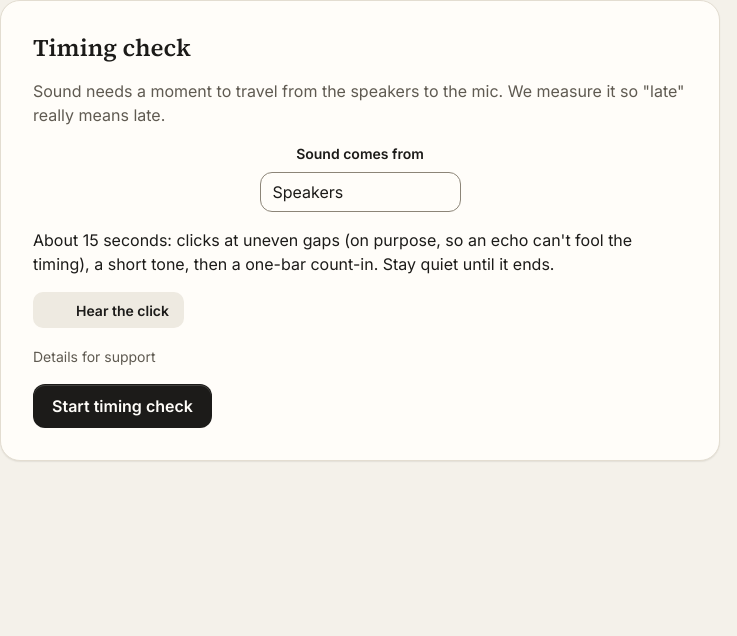
CalibrationCard › the owner's MacBook measurement (95 ms, spread 0.1 ms) shows no warning
What coordinates should you click on to do the following:
click the button "Start timing check"
I would click on:
 (122, 406)
Its box is [33,384,212,428].
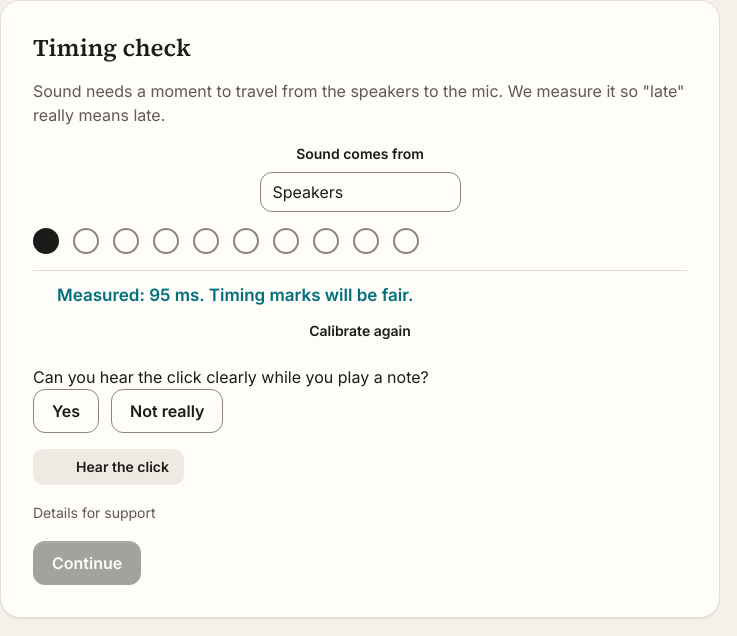
Expected: the element with test id "cal-result" shows "95", [57,285,413,305]
